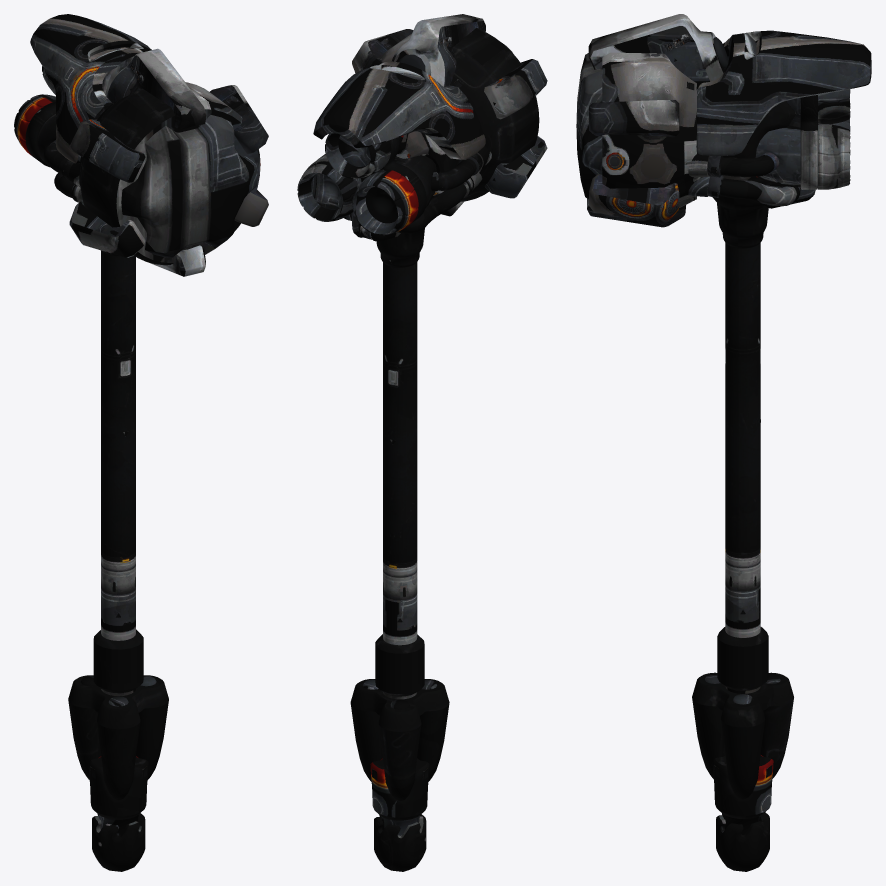
The model's file is reinhardt_hammer.obj.
The picture shows the model from 3 angles, left to right: view 1: azimuth 30°, elevation 25°; view 2: azimuth 150°, elevation 25°; view 3: azimuth 270°, elevation 25°; orthographic projection. The views are drawn at different scales.
Visible parts, largest first — view 1: Mesh_0713_Untitled.004; view 2: Mesh_0713_Untitled.004; view 3: Mesh_0713_Untitled.004.
Boxes of the visible parts, x1,y1,x2,y2 form: Mesh_0713_Untitled.004: [14, 14, 268, 871]; Mesh_0713_Untitled.004: [297, 14, 547, 871]; Mesh_0713_Untitled.004: [576, 14, 871, 871].
Size of the model in its own units: 1.76 by 7.95 by 2.51.
